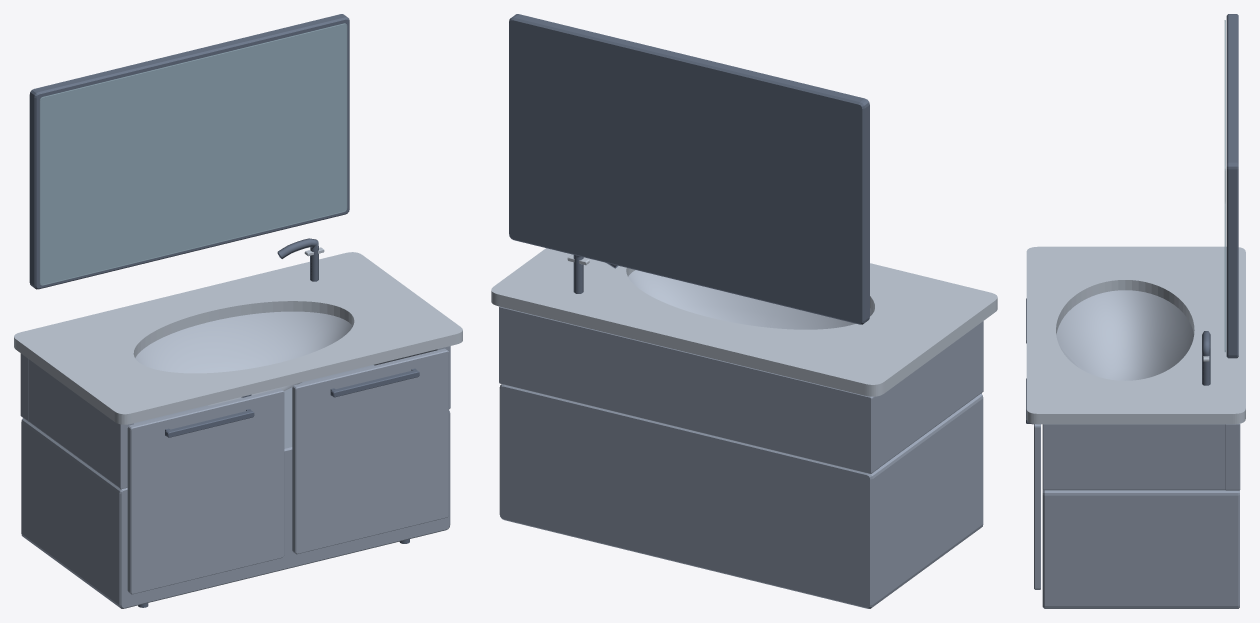
3 renders of one model, left to right at view 1: azimuth 30°, elevation 25°; view 2: azimuth 150°, elevation 25°; view 3: azimuth 270°, elevation 25°, orthographic. The views are drawn at different scales.
Visible parts, largest first — view 1: dark, glass, accent, light, body, soft; view 2: body, dark, light, soft; view 3: body, light, soft, dark, accent, glass.
Boxes of the visible parts, bbox=[...] form: dark: bbox=[29, 14, 419, 607]; glass: bbox=[39, 23, 347, 285]; accent: bbox=[127, 348, 448, 594]; light: bbox=[14, 247, 462, 424]; body: bbox=[20, 346, 450, 608]; soft: bbox=[135, 311, 352, 405]; body: bbox=[499, 306, 983, 608]; dark: bbox=[509, 14, 869, 324]; light: bbox=[491, 248, 997, 396]; soft: bbox=[628, 270, 873, 329]; body: bbox=[1042, 423, 1240, 608]; light: bbox=[1026, 246, 1245, 424]; soft: bbox=[1056, 290, 1193, 380]; dark: bbox=[1026, 14, 1238, 424]; accent: bbox=[1034, 424, 1040, 589]; glass: bbox=[1224, 20, 1225, 352].
Bounding box in the file's own units: 0.9 × 1.14 × 0.5.
